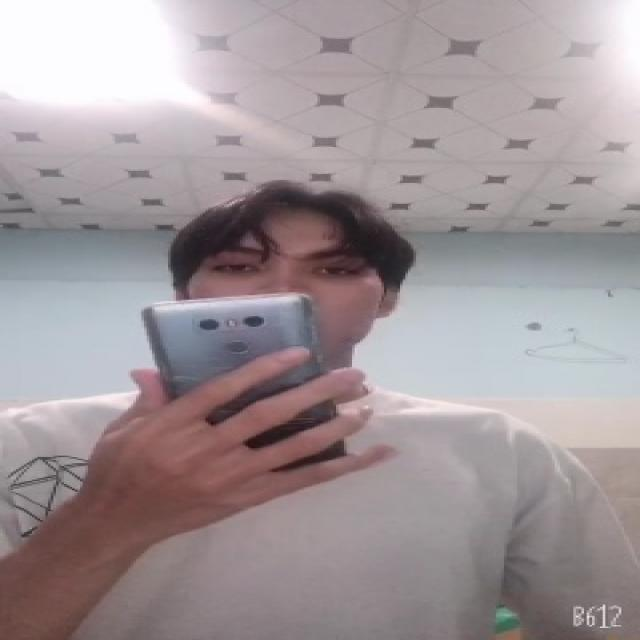Phone: (140, 290, 351, 471)
